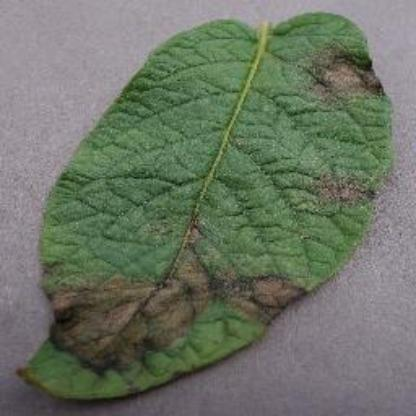Late-Blight: (19, 12, 413, 416)
